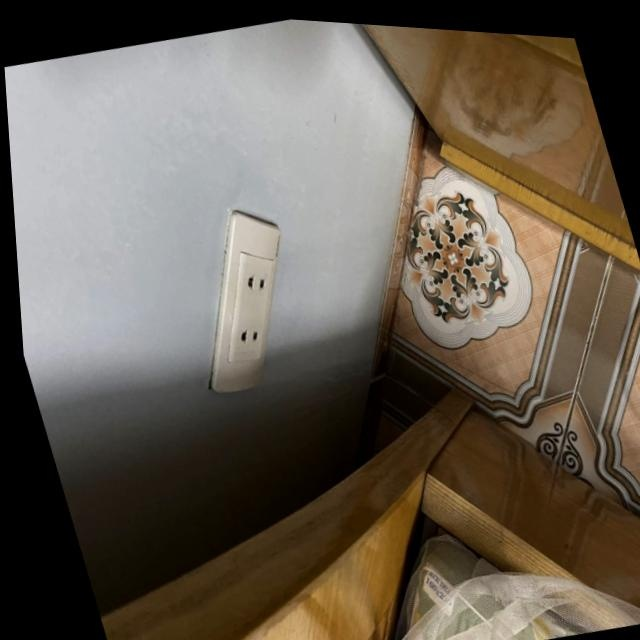outlet: (158, 195, 325, 403)
